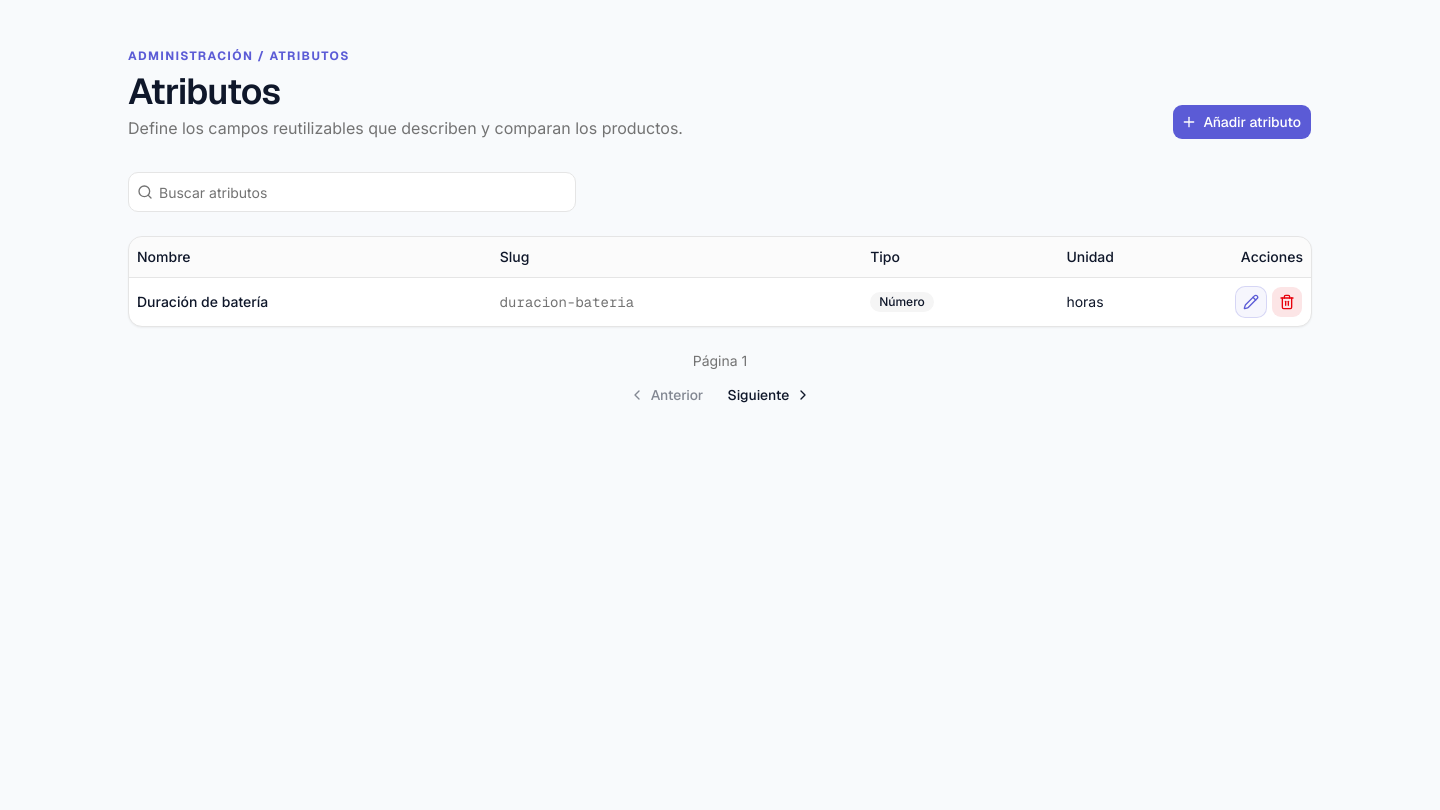
Test case: AttributesCrud › shows dependency conflicts without leaving the page
The image size is (1440, 810).
Click the button named "Eliminar Duración de batería" at [1287, 302], box [1271,286,1303,318]
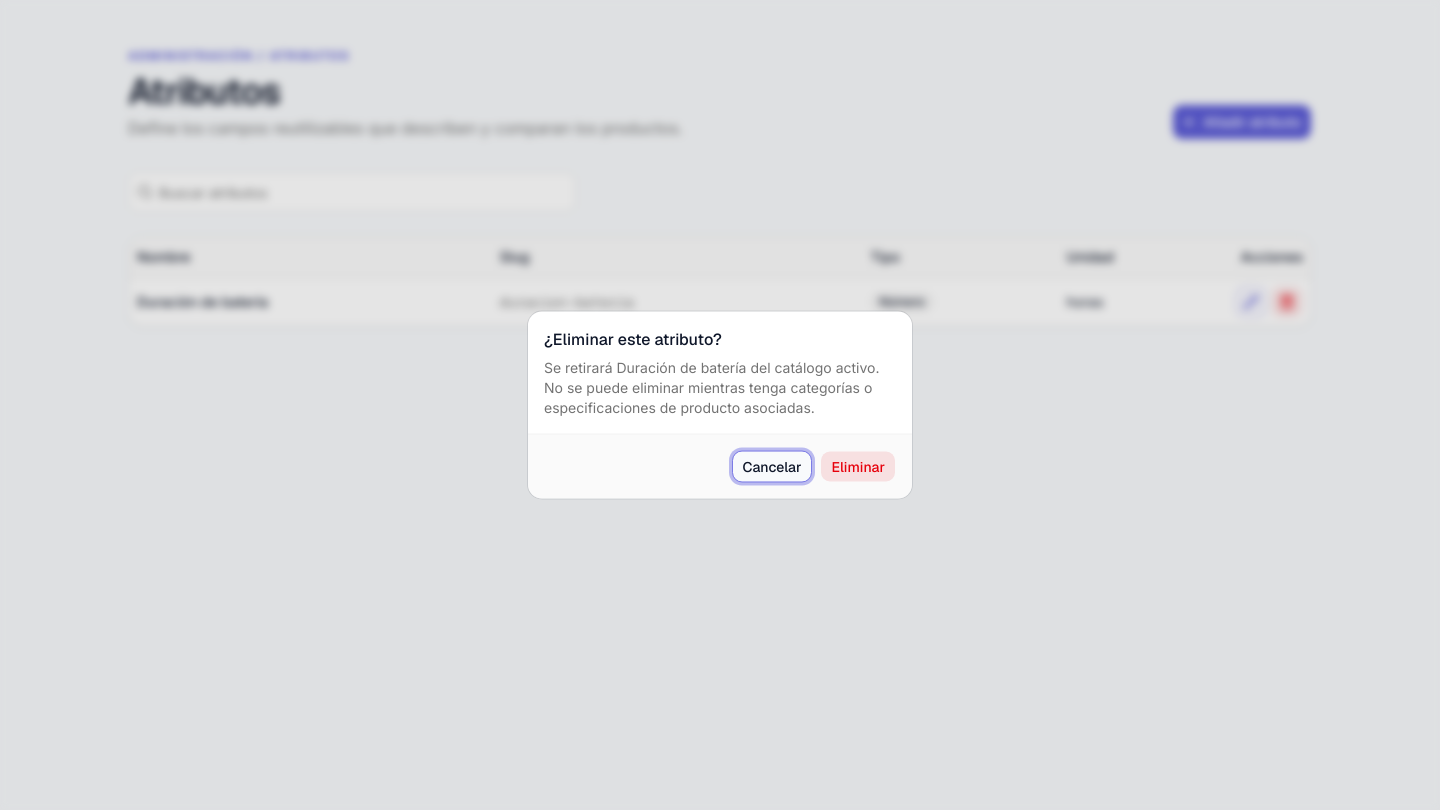
Click the button "Eliminar" at [858, 466], box [820,450,896,482]
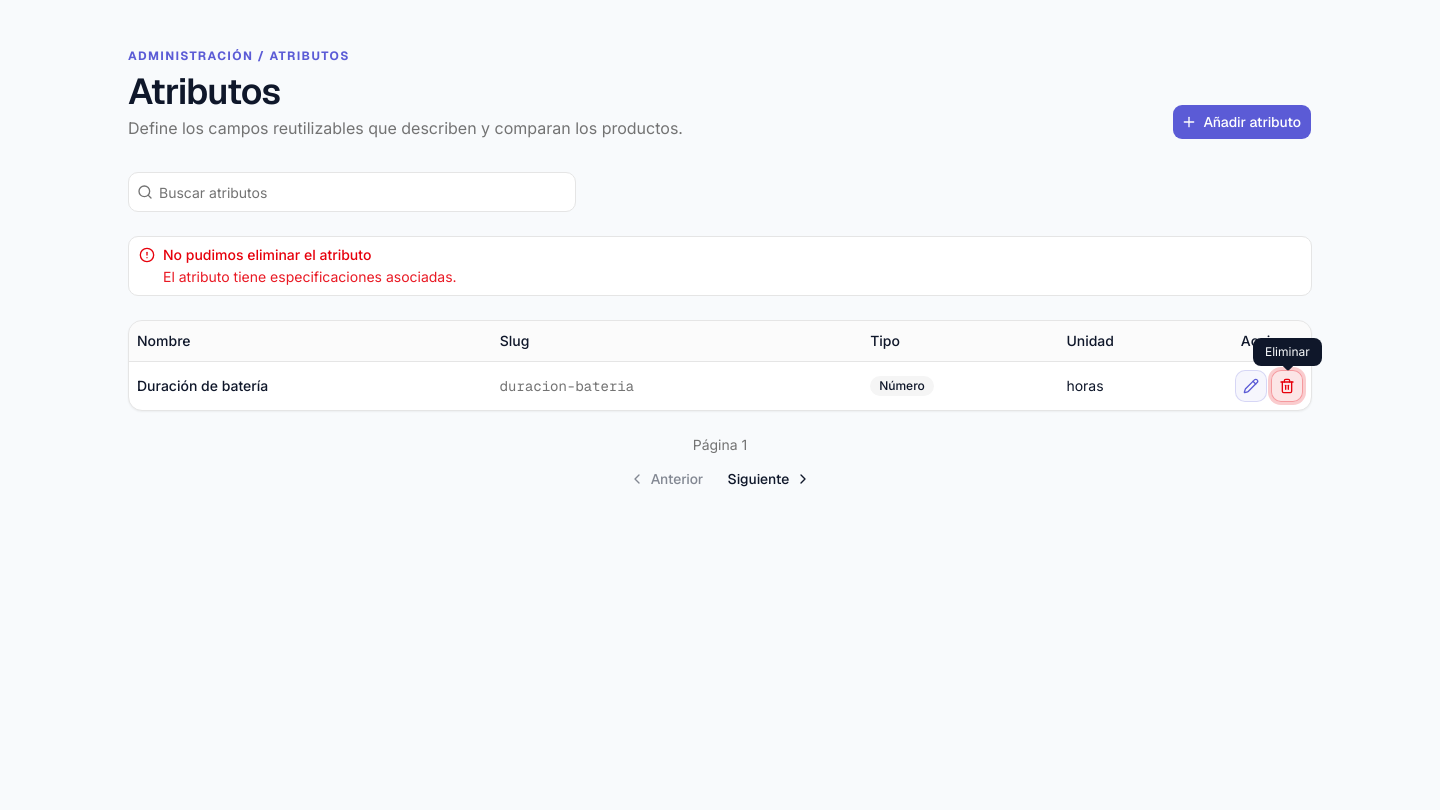
Now the text "El atributo tiene especificaciones asociadas." is shown, box [163,268,457,285]
Now the text "No pudimos eliminar el atributo" is shown, box [163,246,371,263]
